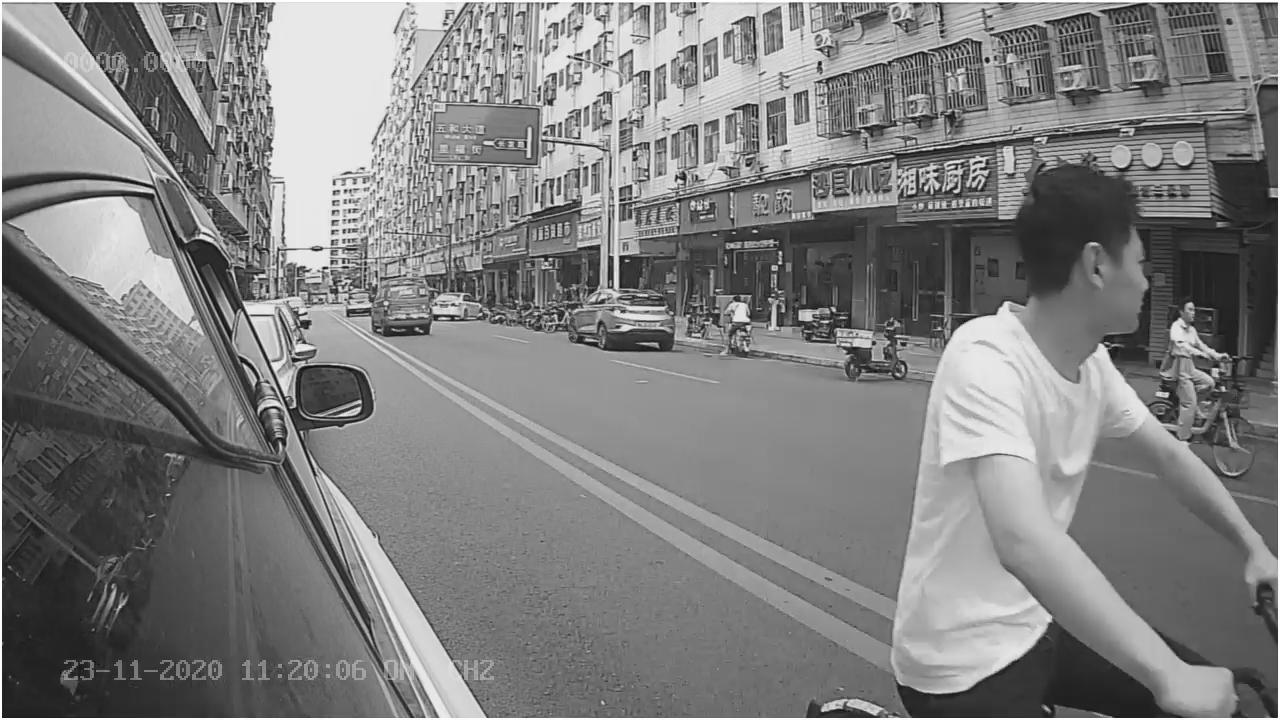person: (894, 159, 1170, 671)
